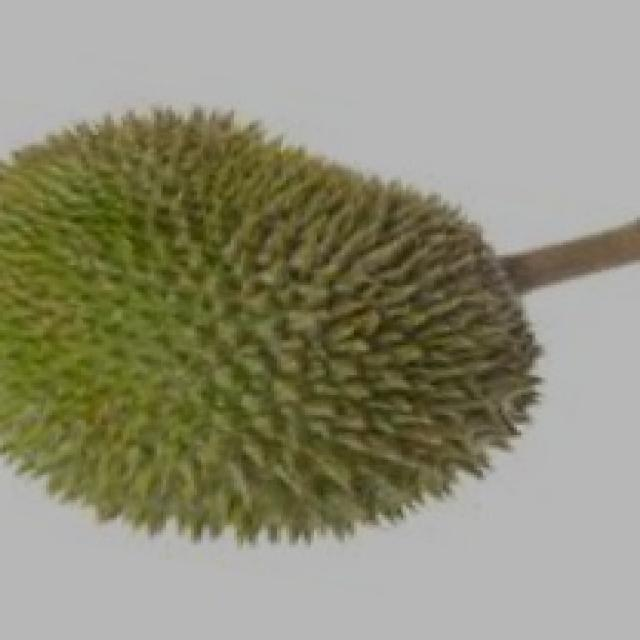fruit: (206, 177, 597, 605), (0, 242, 348, 602)
